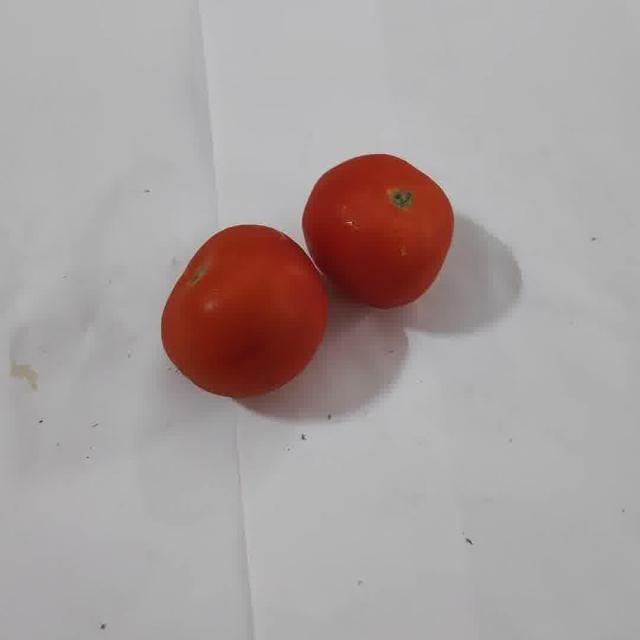Tomato: (161, 225, 327, 399), (303, 154, 453, 308)
